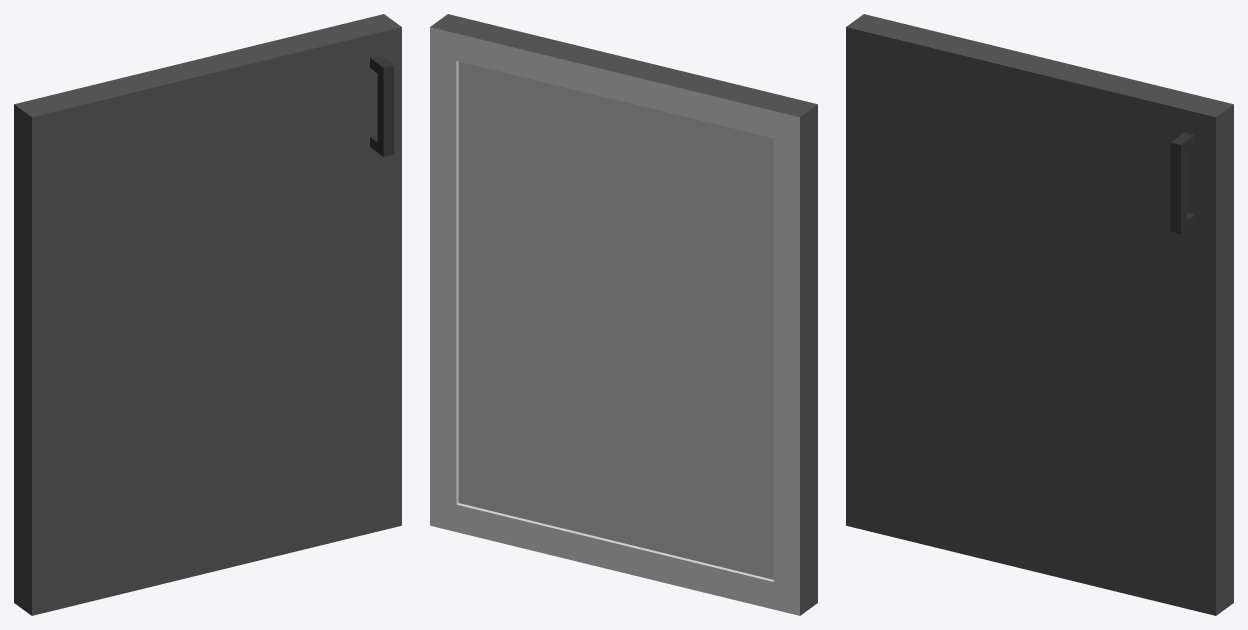
Rendered from Refrigerator2_C2_03.fbx.
3 renders of one model, left to right at view 1: azimuth 30°, elevation 25°; view 2: azimuth 150°, elevation 25°; view 3: azimuth 330°, elevation 25°, orthographic.
Parts seen in each view (by area): view 1: Refrigerator2_C2_03; view 2: Refrigerator2_C2_03; view 3: Refrigerator2_C2_03.
Boxes of the visible parts, x1,y1,x2,y2 form: Refrigerator2_C2_03: [14, 14, 401, 615]; Refrigerator2_C2_03: [430, 14, 817, 615]; Refrigerator2_C2_03: [846, 14, 1233, 615].
Bounding box in the file's own units: 60 × 77.27 × 8.84.
